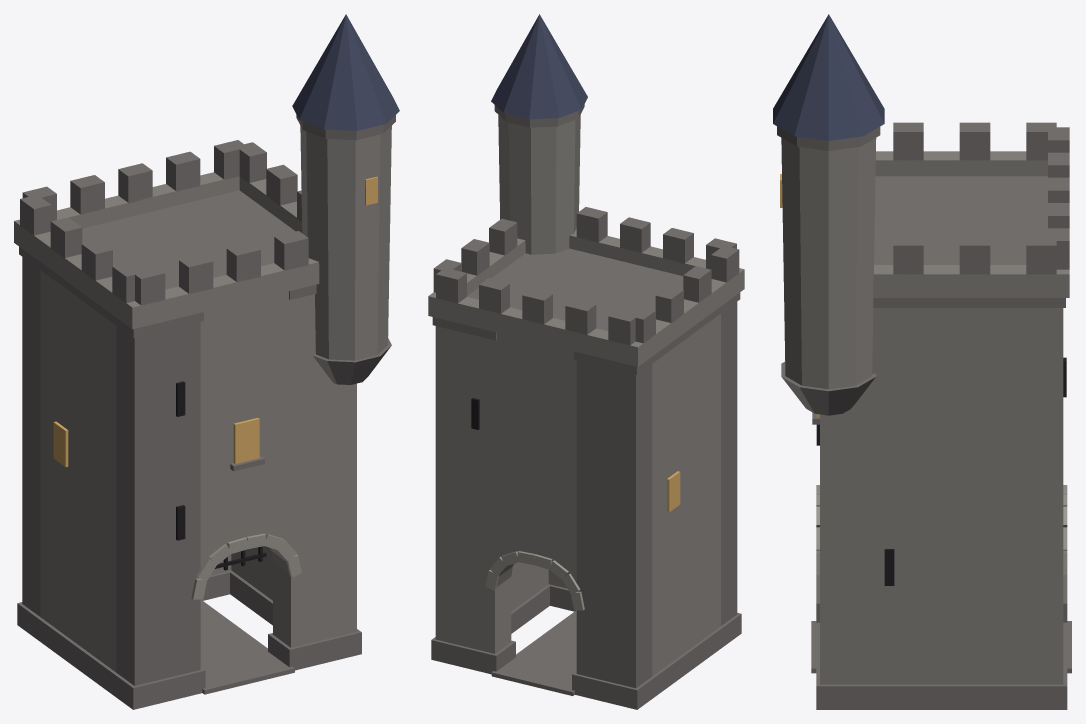
Rendered from foxglove-gatehouse.glb.
3 renders of one model, left to right at view 1: azimuth 30°, elevation 25°; view 2: azimuth 150°, elevation 25°; view 3: azimuth 270°, elevation 25°, orthographic. The views are drawn at different scales.
Visible parts, largest first — view 1: foxglove-gatehouse; view 2: foxglove-gatehouse; view 3: foxglove-gatehouse.
Boxes of the visible parts, x1,y1,x2,y2 form: foxglove-gatehouse: [14, 14, 399, 709]; foxglove-gatehouse: [428, 14, 744, 709]; foxglove-gatehouse: [773, 14, 1071, 709].
Size of the model in its own units: 7.7 by 17.55 by 6.88.
